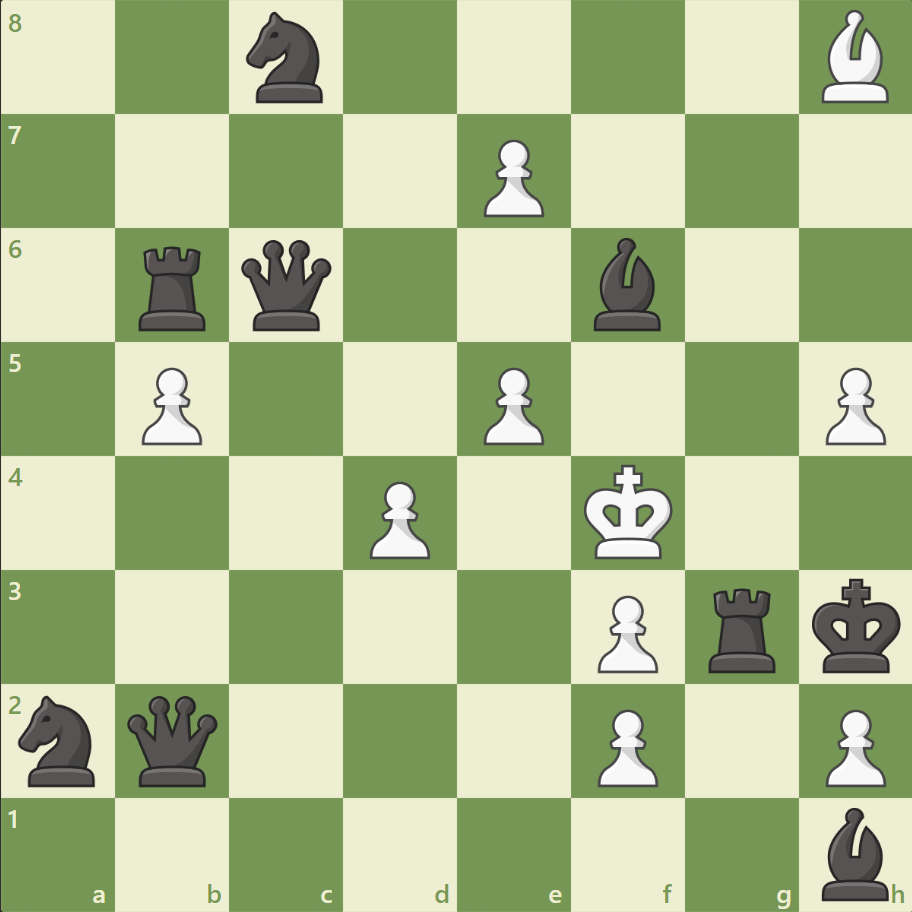B: (812, 6, 896, 109)
K: (579, 458, 679, 566)
P: (474, 132, 549, 223), (133, 359, 208, 450), (474, 359, 549, 450), (815, 359, 889, 450), (361, 473, 435, 564), (588, 586, 662, 677), (588, 700, 662, 791), (815, 700, 889, 791)
b: (585, 233, 669, 336), (812, 801, 896, 904)
k: (806, 571, 906, 679)
n: (238, 7, 335, 110), (11, 688, 108, 791)
q: (237, 236, 336, 335), (124, 690, 223, 789)
r: (700, 579, 783, 676), (133, 239, 215, 336)
